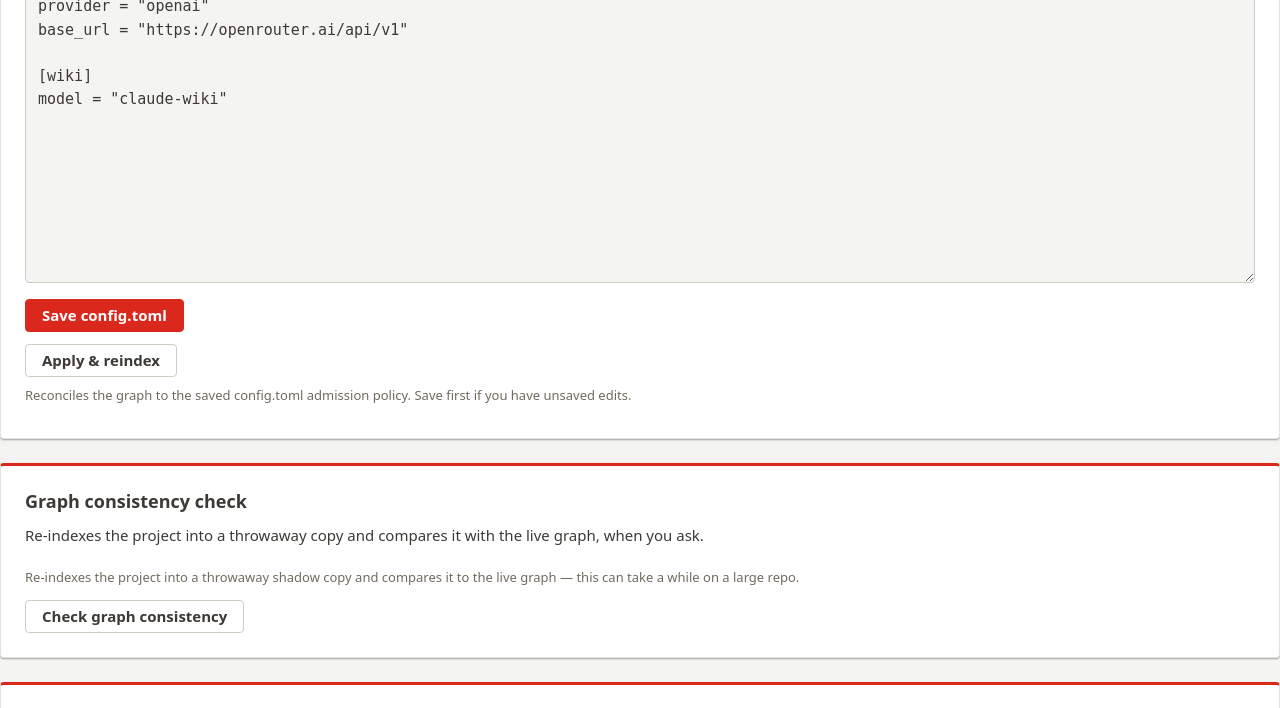
Test case: ConfigView explicit Apply, decoupled from Save (FR-UI-13) › surfaces a rejected write (e.g. a guard 403) honestly
This screenshot has width=1280, height=708.
(page scrolled)
Click the button "Apply & reindex".
click(101, 361)  # box [25,344,177,378]
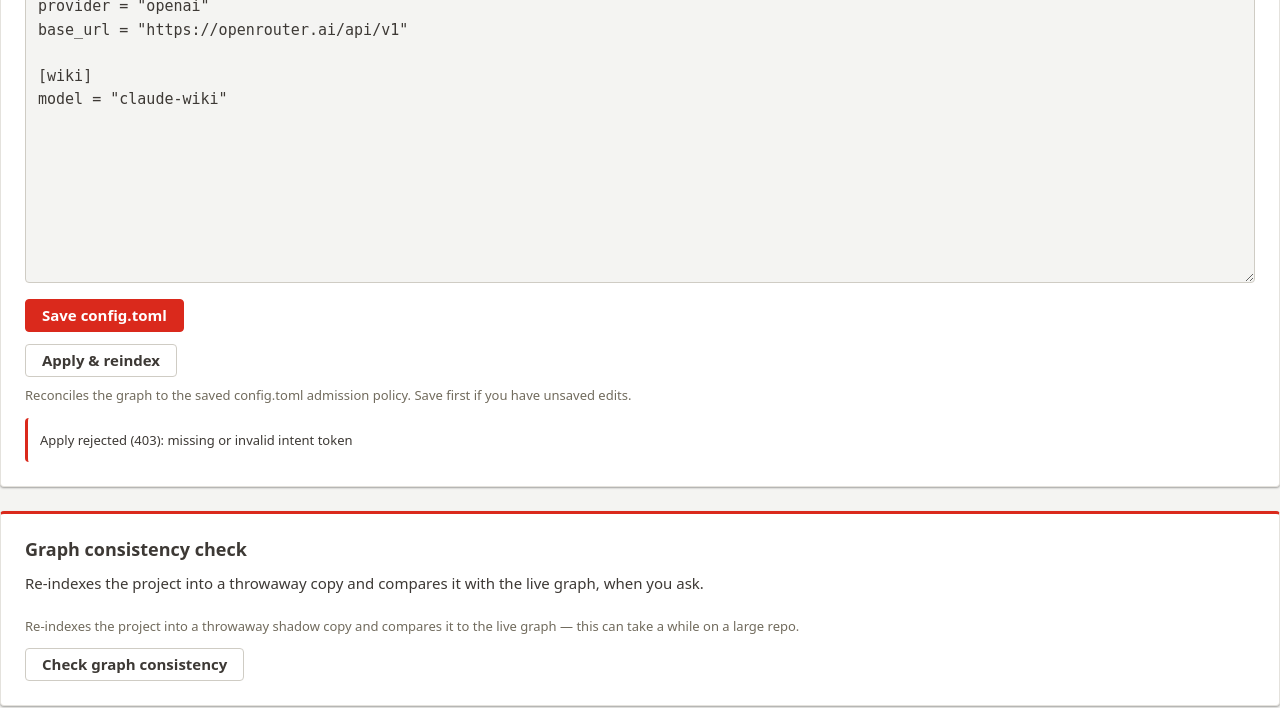
Check: the text "Apply rejected (403): missing or invalid intent token" is shown, box [25,418,1255,462]
